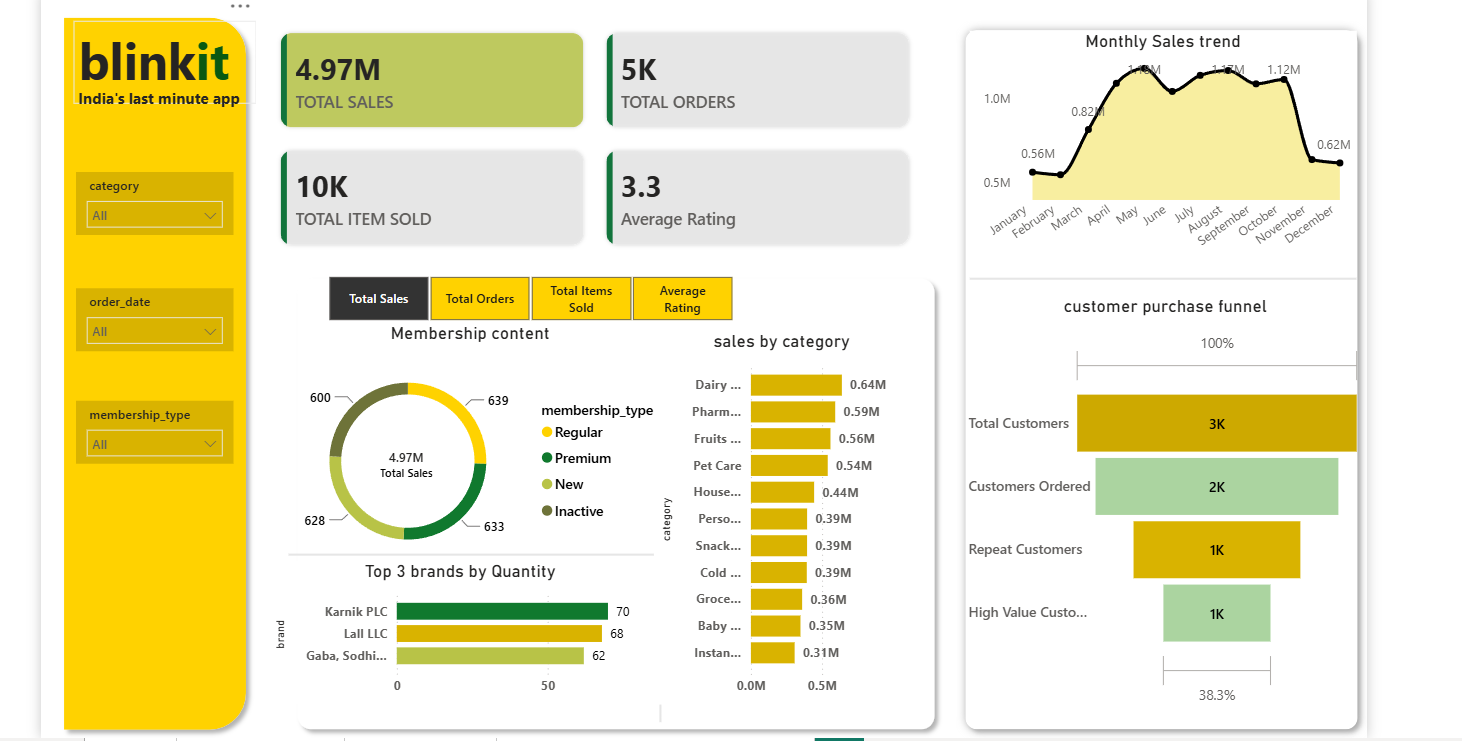

The page's visual inventory and layout, read from the dashboard file:
{"tool":"powerbi","page":{"name":"Home","canvas":[1280,720],"ordinal":0},"visuals":[{"type":"shape","box":[13.7,15.1,193.5,705.3],"z":0},{"type":"textbox","box":[266.2,629.8,205.8,35.7],"z":1000},{"type":"textbox","box":[31.6,27.4,175.6,79.6],"z":2000},{"type":"textbox","box":[21.7,86.9,184.6,39.8],"z":3000},{"type":"cardVisual","fields":{"Data":["DAX.Total Sales (Items)","DAX.Total Orders","DAX.Total Items Sold","DAX.Average Rating"]},"box":[207.2,15.1,654.5,252.5],"z":4000},{"type":"shape","box":[238.8,267.6,632.6,452.8],"z":5000},{"type":"donutChart","title":"Membership content","fields":{"Y":["Count(public customers.customer_id)"],"Category":["public customers.membership_type"]},"box":[220.9,318.4,387,249.7],"z":6000},{"type":"slicer","fields":{"Values":["metrics.metrics"]},"box":[252.5,267.6,439.1,50.8],"z":7000},{"type":"cardVisual","fields":{"Data":["DAX.Total Sales (Items)"]},"box":[293.7,425.4,119.4,60.4],"z":8000},{"type":"clusteredBarChart","title":"Top 3 brands by Quantity","fields":{"Y":["Sum(public order_items.quantity)"],"Category":["public products.brand"]},"box":[220.9,548.9,367.8,138.6],"z":9000},{"type":"shape","box":[238.8,536.5,352.7,12.3],"z":10000},{"type":"shape","box":[594.3,332.6,6.1,371.7],"z":11000},{"type":"barChart","title":"sales by category","fields":{"Category":["public products.category"],"Y":["DAX.Total Sales (Items)"]},"box":[594.2,326.6,242.9,360.9],"z":12000},{"type":"shape","box":[883.7,27.4,396.6,693],"z":13000},{"type":"lineChart","title":"Monthly Sales trend ","fields":{"Category":["public orders.order_date.Variation.Date Hierarchy.Year","public orders.order_date.Variation.Date Hierarchy.Month"],"Y":["DAX.Monthly Sales"]},"box":[896.1,37,373.2,230.5],"z":14000},{"type":"shape","box":[896.1,267.6,373.2,17.8],"z":15000},{"type":"funnel","title":"customer purchase funnel","fields":{"Y":["DAX.Total Customers","DAX.Customers Ordered","DAX.Repeat Customers","DAX.High Value Customers 2"]},"box":[890.6,293.7,389.7,410.3],"z":16000},{"type":"slicer","fields":{"Values":["public products.category"]},"box":[34.2,173.6,151.6,61.1],"z":17000},{"type":"slicer","fields":{"Values":["public orders.order_date"]},"box":[34.2,286.1,151.6,61.1],"z":18000},{"type":"slicer","fields":{"Values":["public customers.membership_type"]},"box":[34.2,395,151.6,61.1],"z":19000}]}

Visuals, with their boxes on the page's 1280x720 design canvas (x1, y1, x2, y2). These are canvas units, not pixel positions in the 1462x741 screenshot, which may show the page scaled, cropped or inside an application window:
shape: [14,15,207,720]
textbox: [266,630,472,666]
textbox: [32,27,207,107]
textbox: [22,87,206,127]
cardVisual - DAX.Total Sales (Items) x DAX.Total Orders: [207,15,862,268]
shape: [239,268,871,720]
"Membership content" donutChart: [221,318,608,568]
slicer - metrics.metrics: [252,268,692,318]
cardVisual - DAX.Total Sales (Items): [294,425,413,486]
"Top 3 brands by Quantity" clusteredBarChart: [221,549,589,688]
shape: [239,536,592,549]
shape: [594,333,600,704]
"sales by category" barChart: [594,327,837,688]
shape: [884,27,1280,720]
"Monthly Sales trend " lineChart: [896,37,1269,268]
shape: [896,268,1269,285]
"customer purchase funnel" funnel: [891,294,1280,704]
slicer - public products.category: [34,174,186,235]
slicer - public orders.order_date: [34,286,186,347]
slicer - public customers.membership_type: [34,395,186,456]
